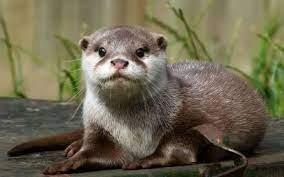otter: (41, 19, 271, 174)
